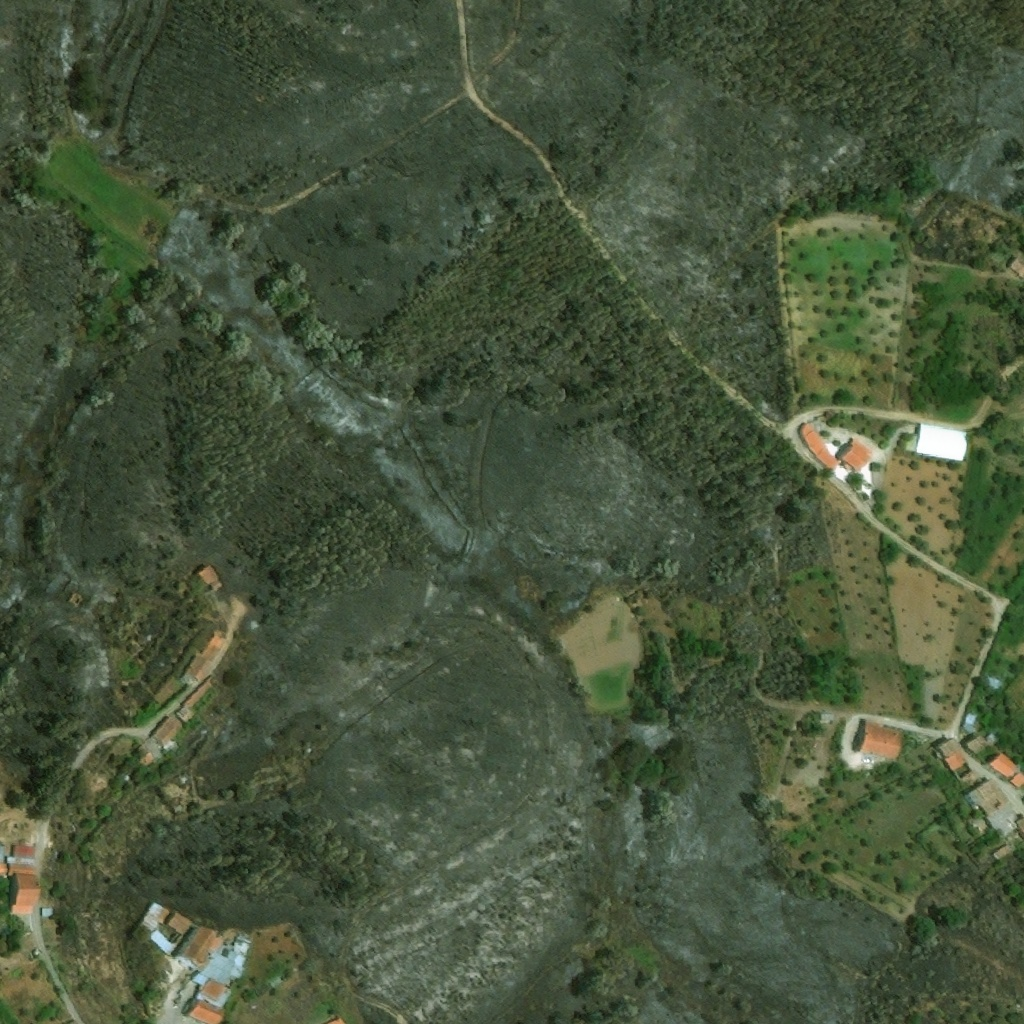0 no-damage: (158, 910, 254, 1023), (964, 776, 1018, 837), (8, 842, 43, 913), (905, 423, 967, 463), (181, 630, 226, 684), (850, 717, 902, 762), (797, 421, 841, 470), (174, 676, 216, 724), (149, 716, 181, 747), (839, 443, 872, 471), (989, 751, 1021, 778), (943, 750, 967, 772), (197, 565, 220, 587), (936, 738, 962, 755), (967, 735, 990, 754), (137, 753, 153, 767), (819, 713, 834, 724), (0, 864, 8, 877), (42, 908, 52, 916)
4 un-classified: (1009, 772, 1023, 788)
